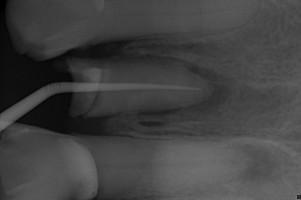Furcation Involvement: (167, 62, 231, 115), (232, 145, 283, 184)
